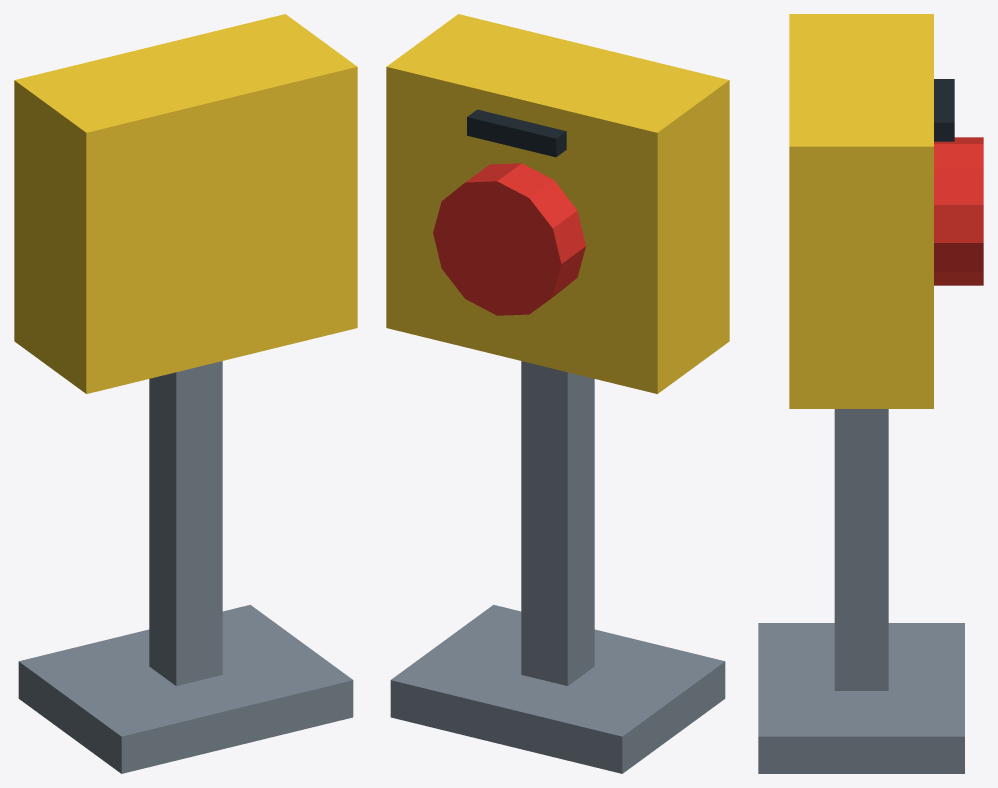
File: piano_lock.glb
The picture shows the model from 3 angles, left to right: view 1: azimuth 30°, elevation 25°; view 2: azimuth 150°, elevation 25°; view 3: azimuth 270°, elevation 25°; orthographic projection.
Visible parts, largest first — view 1: Yellow_lock_housing, Safety_base, Safety_post; view 2: Yellow_lock_housing, Safety_base, Safety_post, Red_safety_button, Lock_symbol_bar; view 3: Yellow_lock_housing, Safety_base, Safety_post, Red_safety_button, Lock_symbol_bar.
Part boxes in pixels (x1,y1,x2,y2): Yellow_lock_housing: (14, 14, 357, 393); Safety_base: (18, 604, 353, 773); Safety_post: (149, 361, 222, 685); Yellow_lock_housing: (386, 14, 729, 393); Safety_base: (390, 604, 725, 773); Safety_post: (521, 361, 594, 685); Red_safety_button: (433, 163, 585, 315); Lock_symbol_bar: (467, 109, 566, 157); Yellow_lock_housing: (789, 14, 933, 408); Safety_base: (758, 623, 964, 773); Safety_post: (834, 409, 888, 690); Red_safety_button: (934, 137, 983, 285); Lock_symbol_bar: (934, 79, 954, 141).
Bounding box in the file's own units: 0.76 × 1.7 × 0.545.
